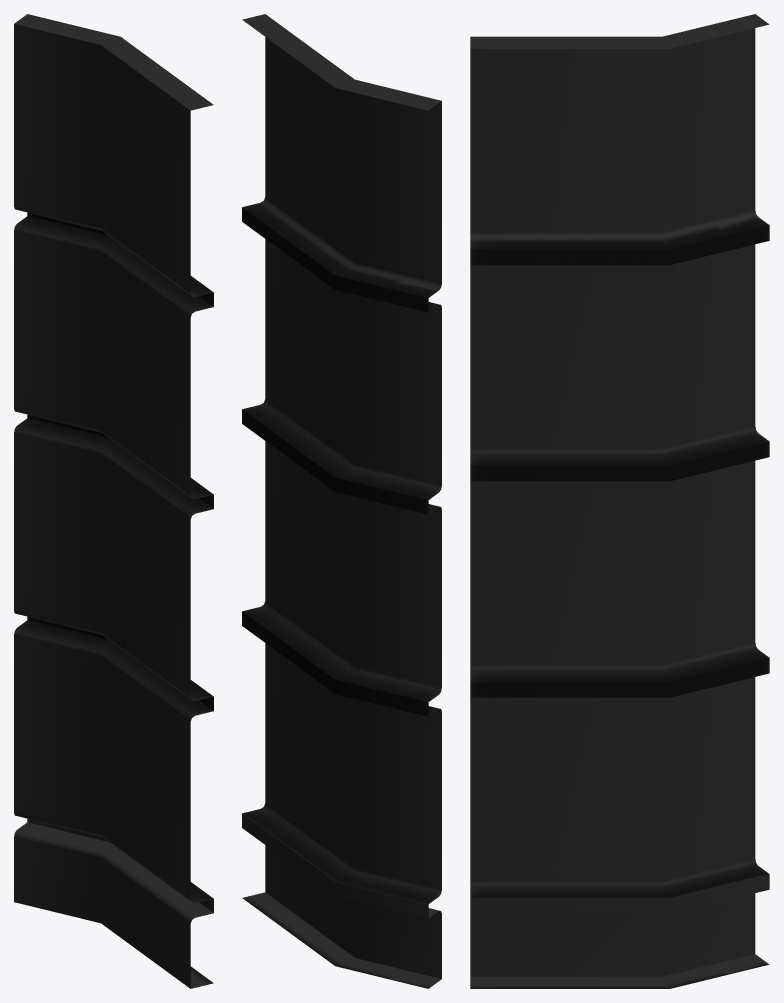
File: XOB_LIN_SW.fbx
The picture shows the model from 3 angles, left to right: view 1: azimuth 30°, elevation 25°; view 2: azimuth 210°, elevation 25°; view 3: azimuth 270°, elevation 25°; orthographic projection. The views are drawn at different scales.
Visible parts, largest first — view 1: XOB_LIN_SW; view 2: XOB_LIN_SW; view 3: XOB_LIN_SW.
Part boxes in pixels (box(x1,y1,x2,y2)): XOB_LIN_SW: box(14, 14, 213, 988); XOB_LIN_SW: box(242, 14, 441, 988); XOB_LIN_SW: box(470, 14, 769, 988).
Bounding box in the file's own units: 0.3583 × 4.5 × 1.3.
